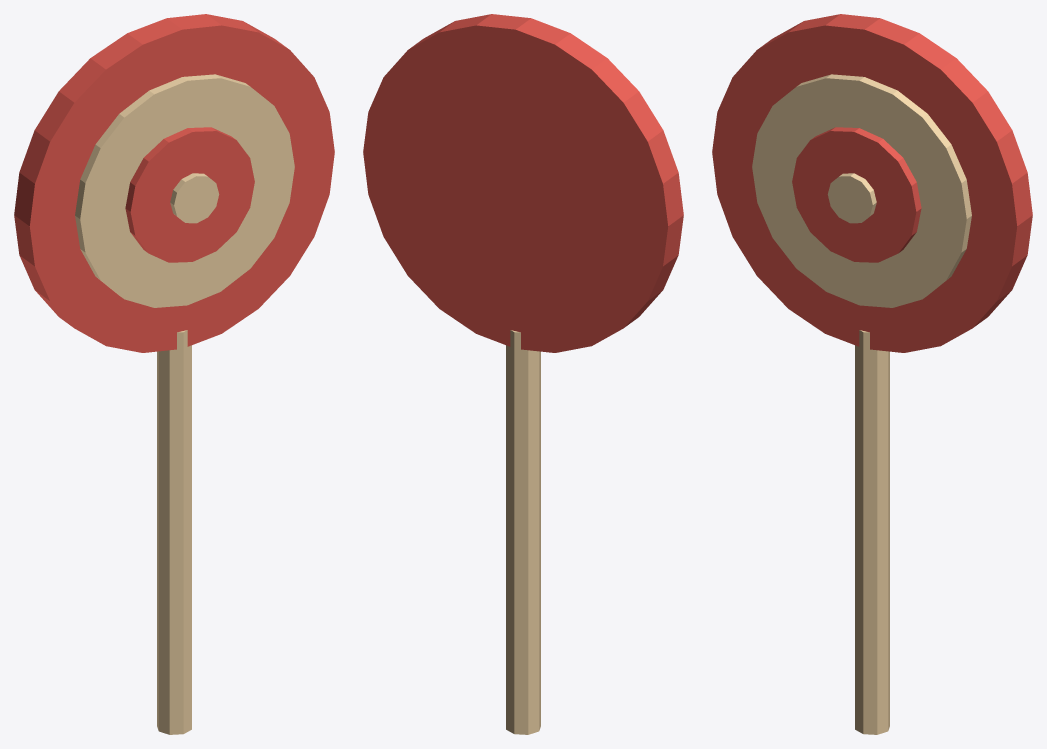
The model's file is ParkParkDecorLollipop.obj.
3 views of the same model, side by side, from view 1: azimuth 30°, elevation 25°; view 2: azimuth 150°, elevation 25°; view 3: azimuth 330°, elevation 25° (orthographic).
Visible parts, largest first — view 1: ParkParkDecorLollipop; view 2: ParkParkDecorLollipop; view 3: ParkParkDecorLollipop.
Boxes of the visible parts, box(x1,y1,x2,y2) form: ParkParkDecorLollipop: box(14, 14, 334, 734); ParkParkDecorLollipop: box(363, 14, 683, 734); ParkParkDecorLollipop: box(712, 14, 1032, 734).
Bounding box in the file's own units: 2.7 × 5.95 × 0.48.
